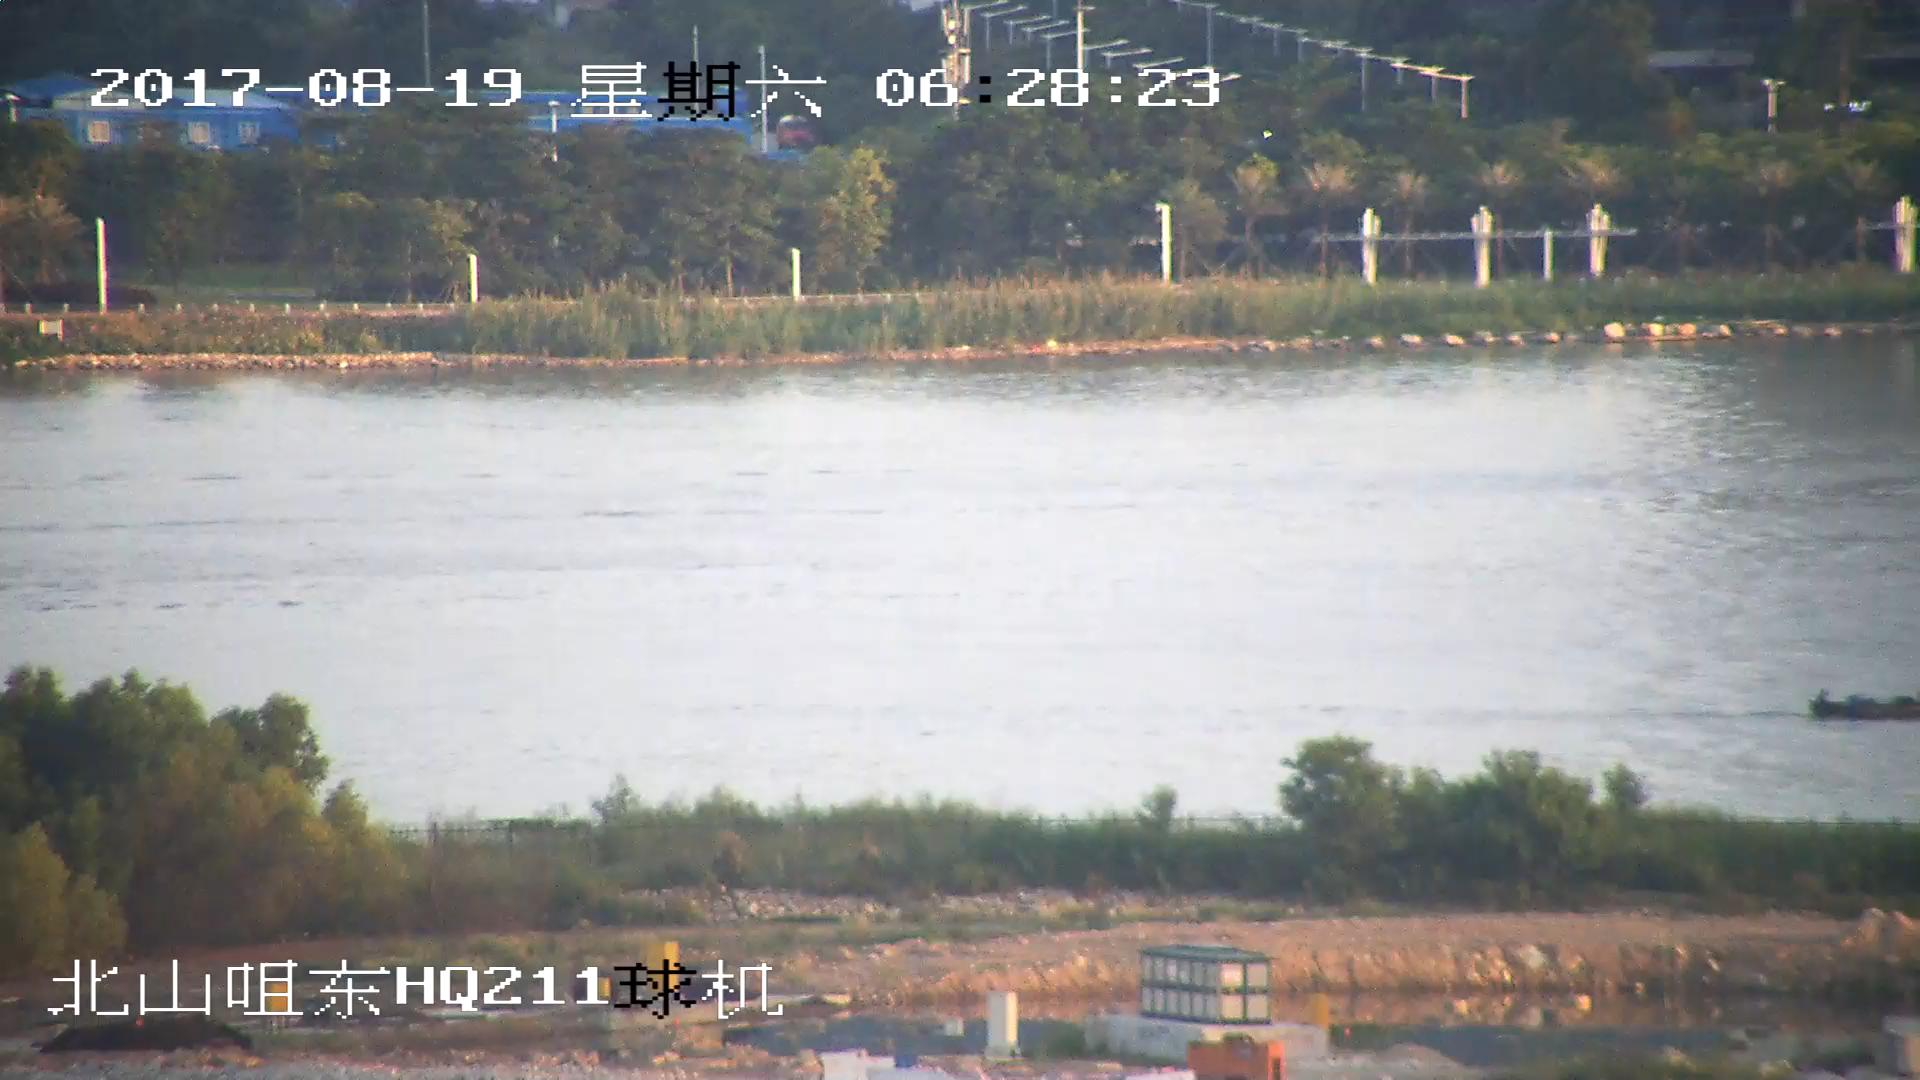fishing boat: (1808, 687, 1920, 718)
